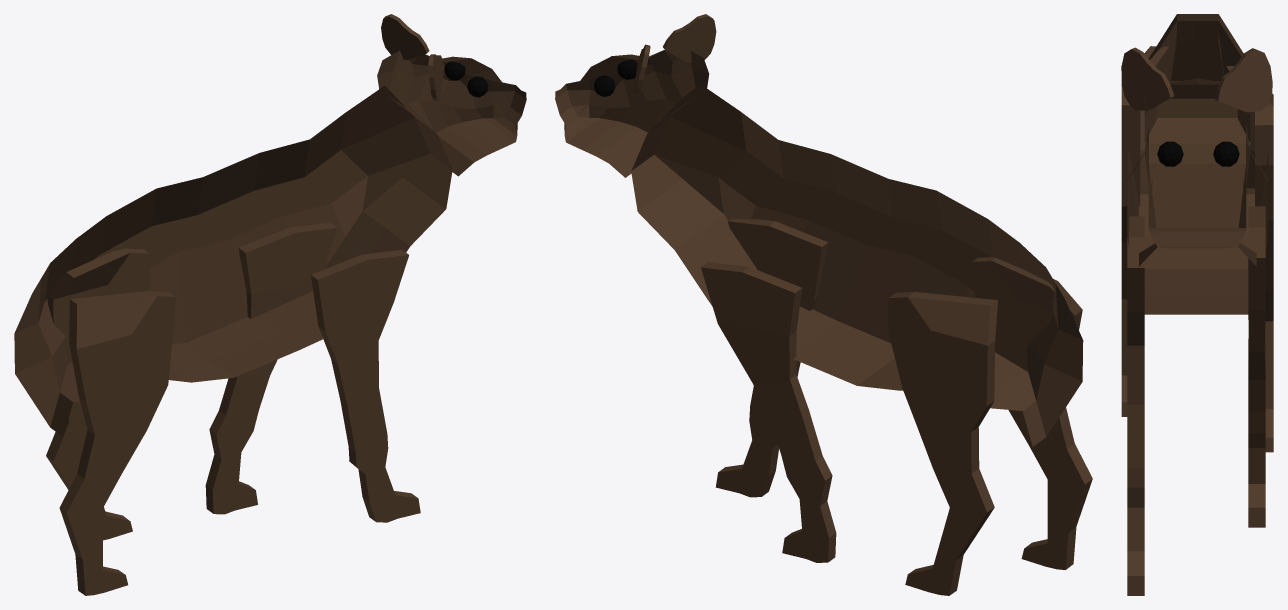
Rendered from hyena.fbx.
3 renders of one model, left to right at view 1: azimuth 30°, elevation 25°; view 2: azimuth 150°, elevation 25°; view 3: azimuth 270°, elevation 25°, orthographic. The views are drawn at different scales.
Parts seen in each view (by area): view 1: Plane, Plane.001, Plane.003, Plane.004, Plane.005, Plane.002, Plane.007; view 2: Plane, Plane.002, Plane.004, Plane.001, Plane.005, Plane.003, Plane.006; view 3: Plane, Plane.005, Plane.003, Plane.004, Plane.002, Plane.001, Plane.007, Plane.006, Icosphere, Icosphere.001.
Boxes of the visible parts, x1,y1,x2,y2 form: Plane: (14,85,452,436); Plane.001: (59,291,175,595); Plane.003: (311,250,420,522); Plane.004: (205,223,336,514); Plane.005: (377,50,526,176); Plane.002: (46,248,149,540); Plane.007: (381,14,429,59); Plane: (631,84,1083,446); Plane.002: (888,292,997,595); Plane.004: (701,262,836,562); Plane.001: (972,257,1092,569); Plane.005: (555,50,709,177); Plane.003: (715,218,828,497); Plane.006: (663,14,716,62); Plane: (1127,14,1268,314); Plane.005: (1144,78,1250,248); Plane.003: (1127,216,1144,595); Plane.004: (1248,206,1265,527); Plane.002: (1226,66,1273,452); Plane.001: (1121,46,1168,416); Plane.007: (1215,48,1272,112); Plane.006: (1121,47,1173,110); Icosphere: (1157,141,1183,166); Icosphere.001: (1213,141,1239,166).
Bounding box in the file's own units: 51.25 × 45.18 × 11.09.
